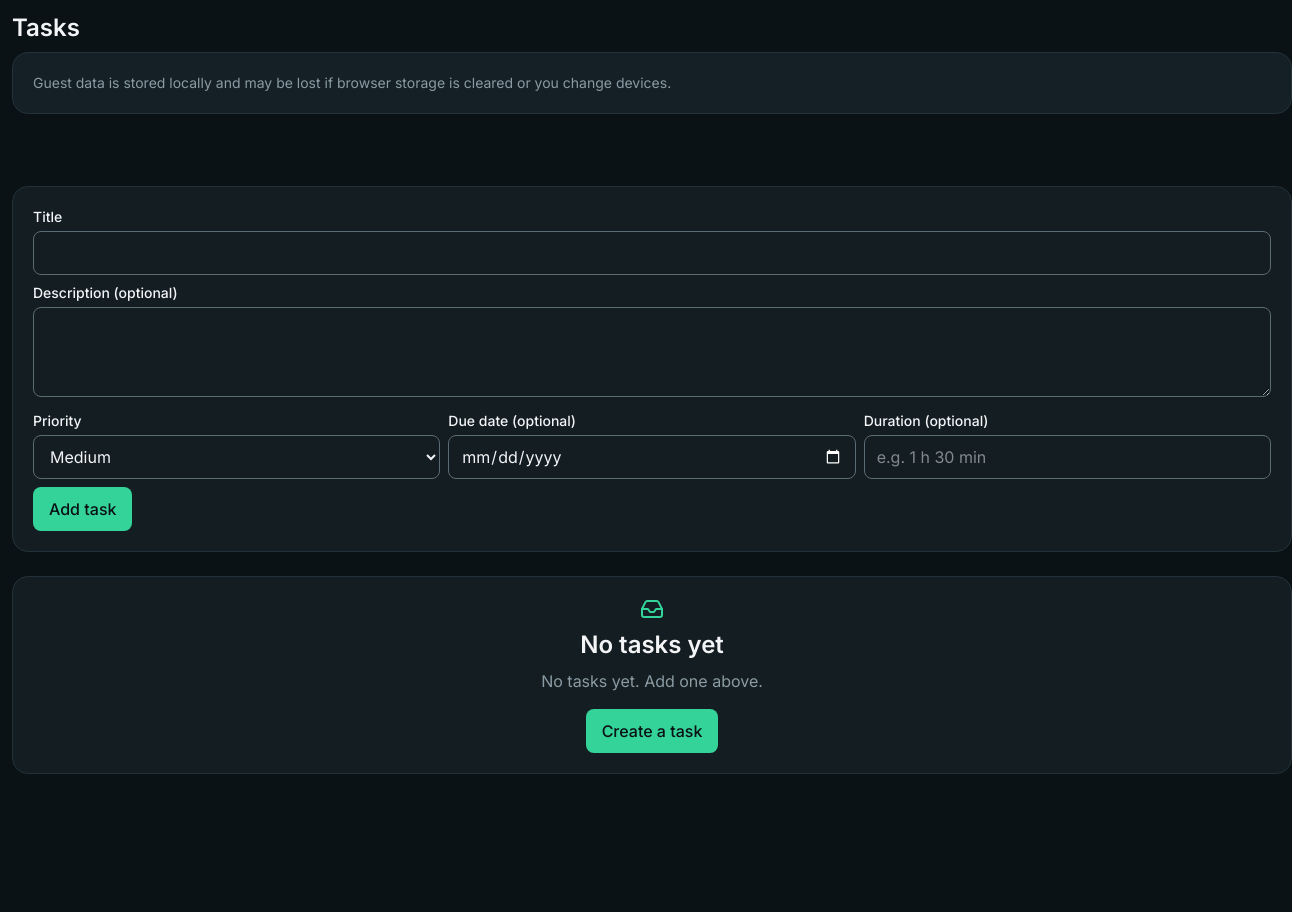
it: deleting tasks › never opens deletion or deletes when completing a task
Type "Keep me" into the field labelled "Title" at (652, 253), box [33,231,1271,275]
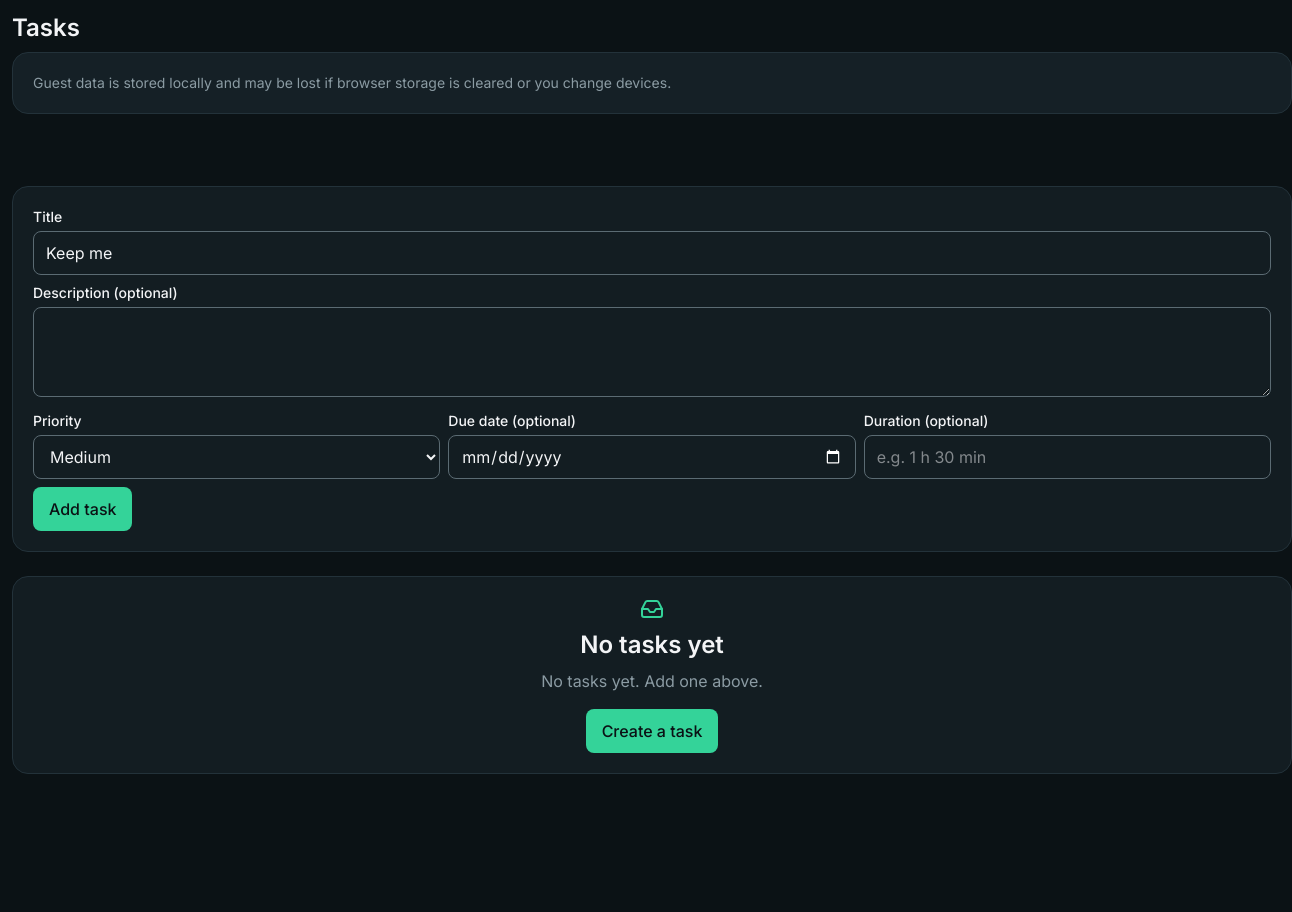
Click the button "Add task" at (83, 509), box [33,487,132,531]
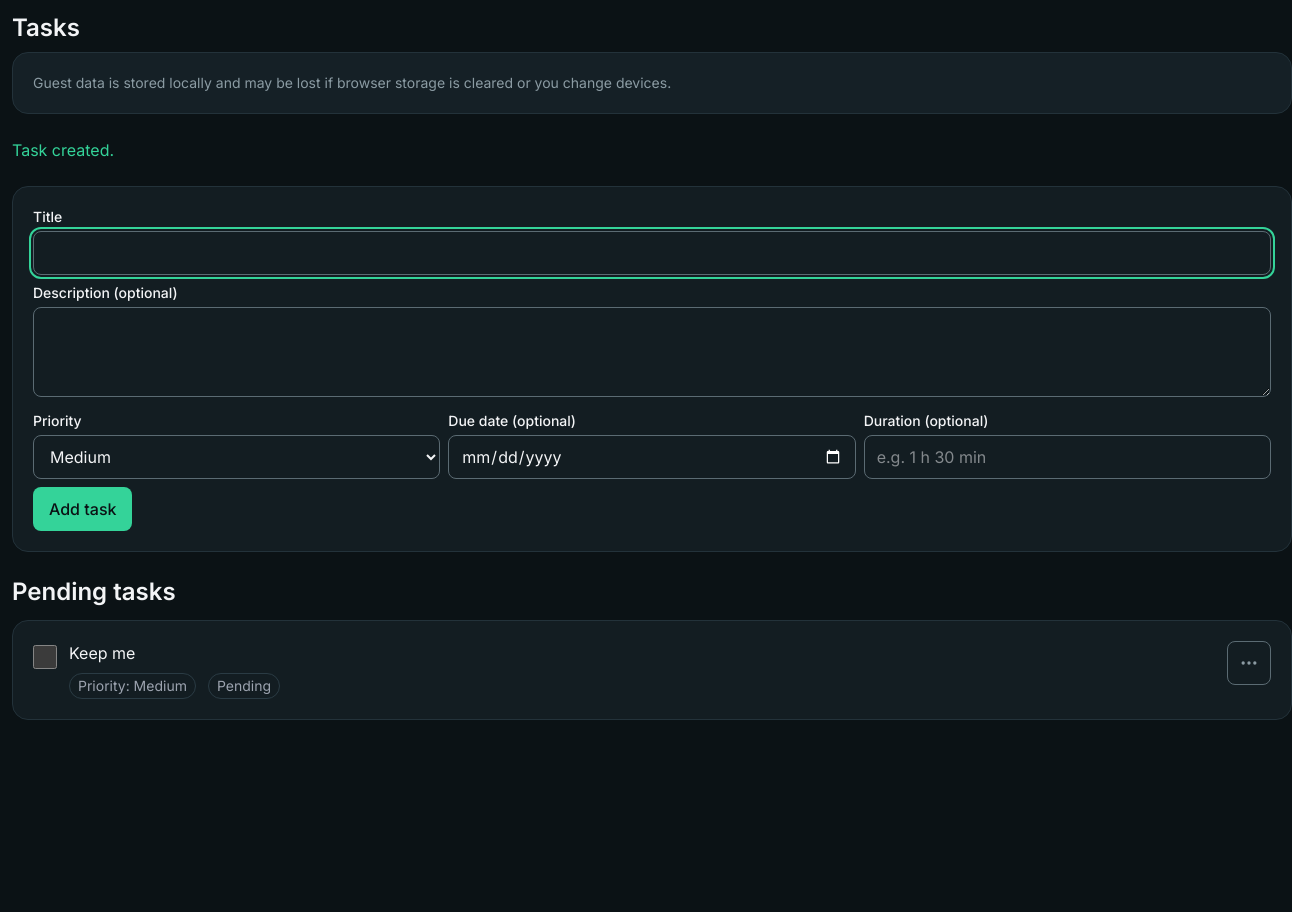
Now the text "Keep me" is shown, box [69,643,135,663]
Click the checkbox named "Mark Keep me complete" at (45, 657), box [33,645,57,669]
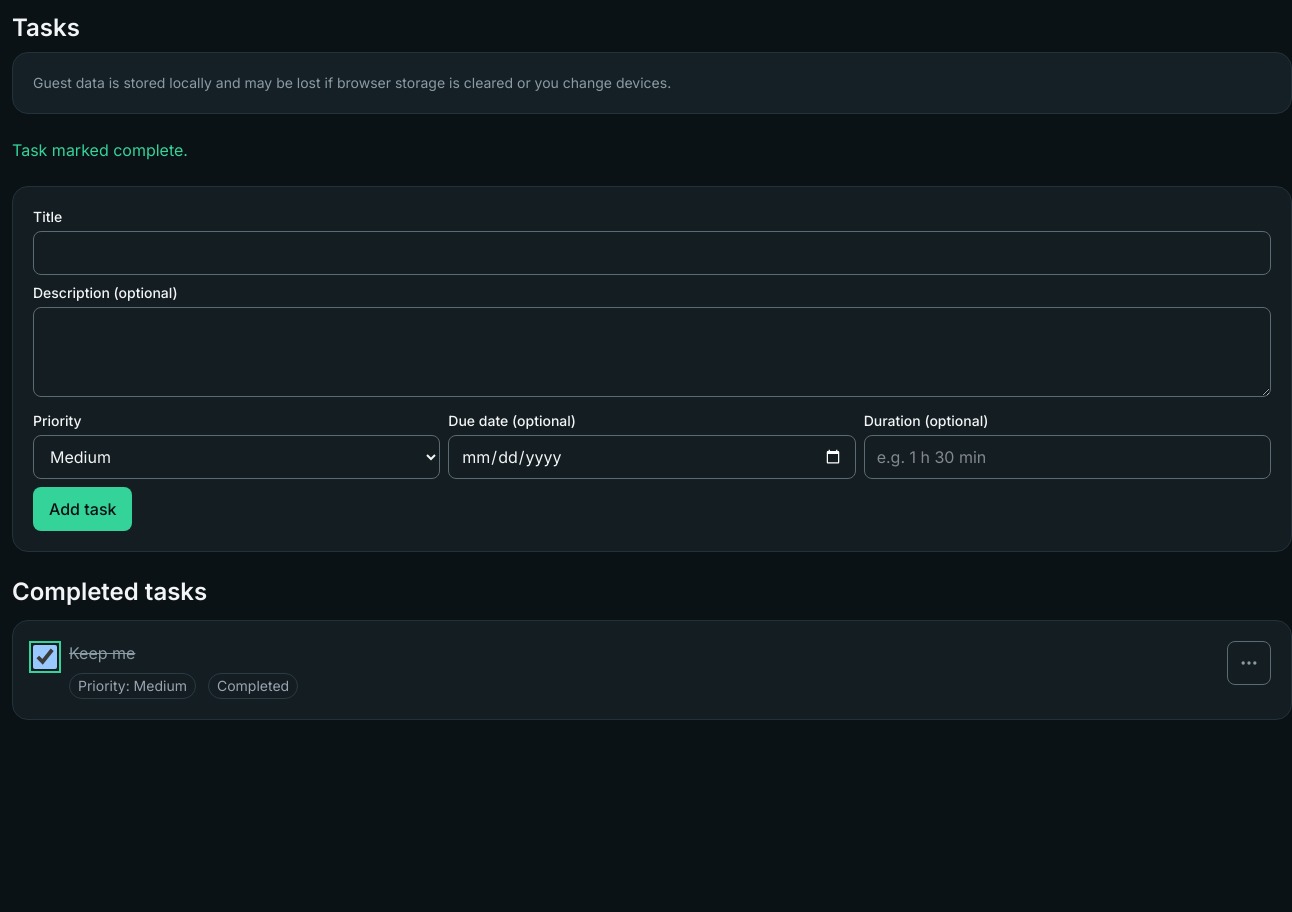
Now the text "Keep me" is shown, box [69,643,135,663]
Now the checkbox named "Mark Keep me pending" is shown, box [33,645,57,669]
